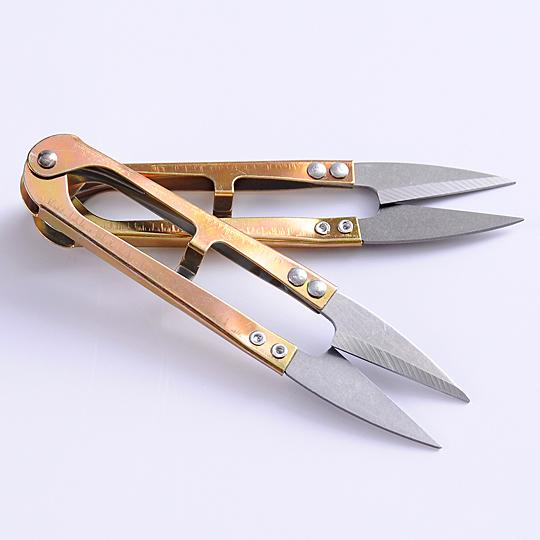scissor: (24, 106, 520, 447)
